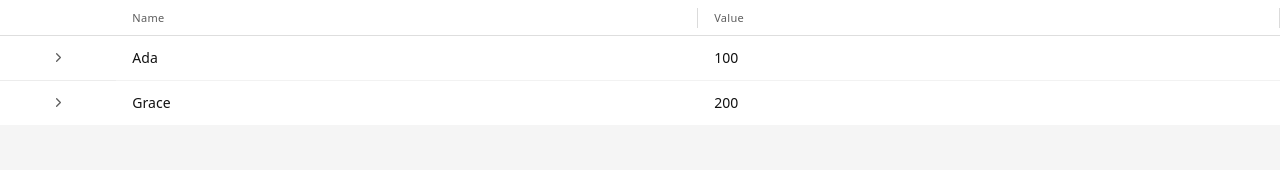
Test: <DataTable> crossing the breakpoint › KEEPS row expansion across the flip — it holds no unsaved input
What coordinates should you click on to do the following:
click the button named "Expand row" next to "Ada"
I would click on:
 (58, 58)
Its box is [48,48,68,68].
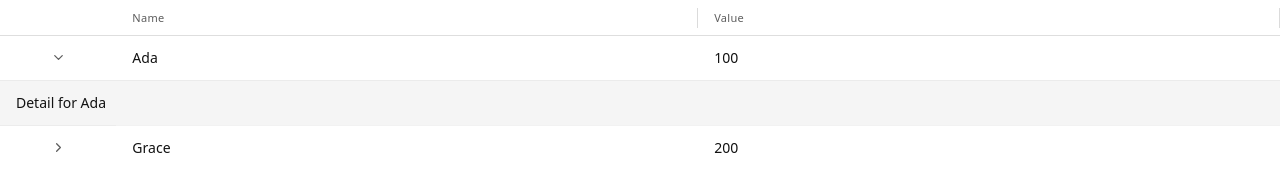
Check: the text "Detail for Ada" is shown, box [16,93,106,112]
